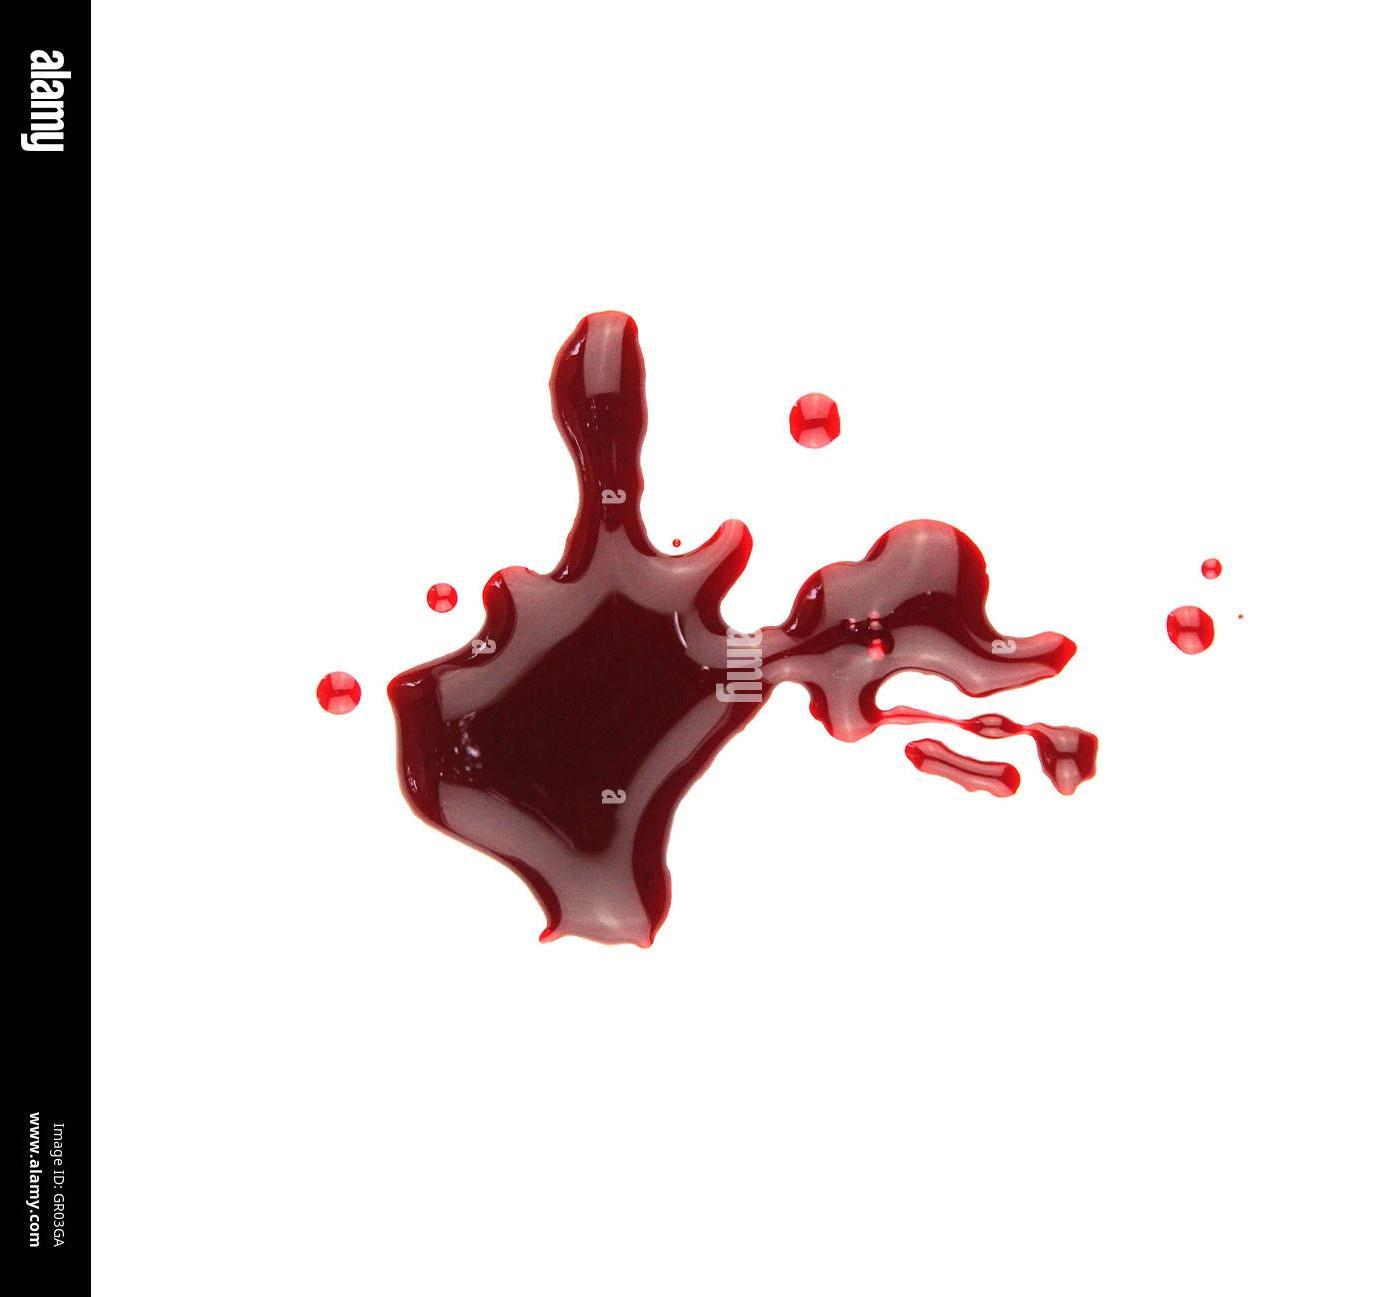Fire: (387, 311, 1099, 950), (903, 737, 1021, 798), (789, 393, 840, 449), (1166, 605, 1214, 655), (315, 670, 361, 716), (426, 581, 458, 613)
